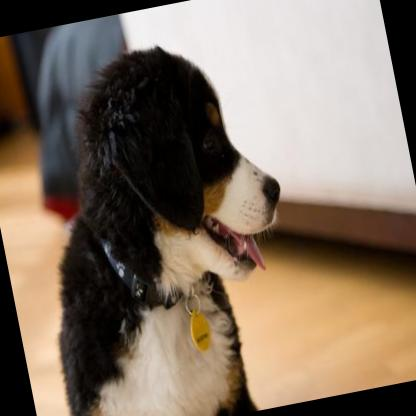Bernese_mountain_dog: (3, 26, 320, 416)
